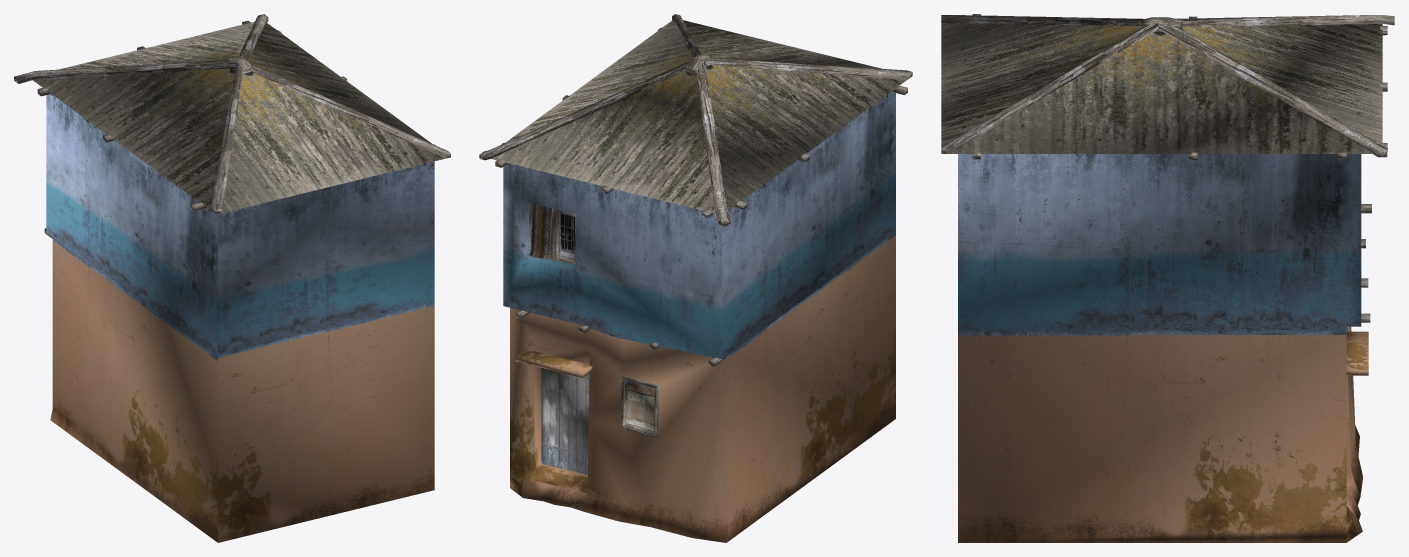
Rendered from BuildingS.obj.
3 renders of one model, left to right at view 1: azimuth 30°, elevation 25°; view 2: azimuth 150°, elevation 25°; view 3: azimuth 270°, elevation 25°, orthographic. The views are drawn at different scales.
Visible parts, largest first — view 1: BuildingS; view 2: BuildingS; view 3: BuildingS.
Boxes of the visible parts, box(x1,y1,x2,y2) form: BuildingS: box(14, 14, 450, 542); BuildingS: box(479, 14, 912, 542); BuildingS: box(941, 14, 1394, 542).
Size of the model in its own units: 187 by 285 by 254.
